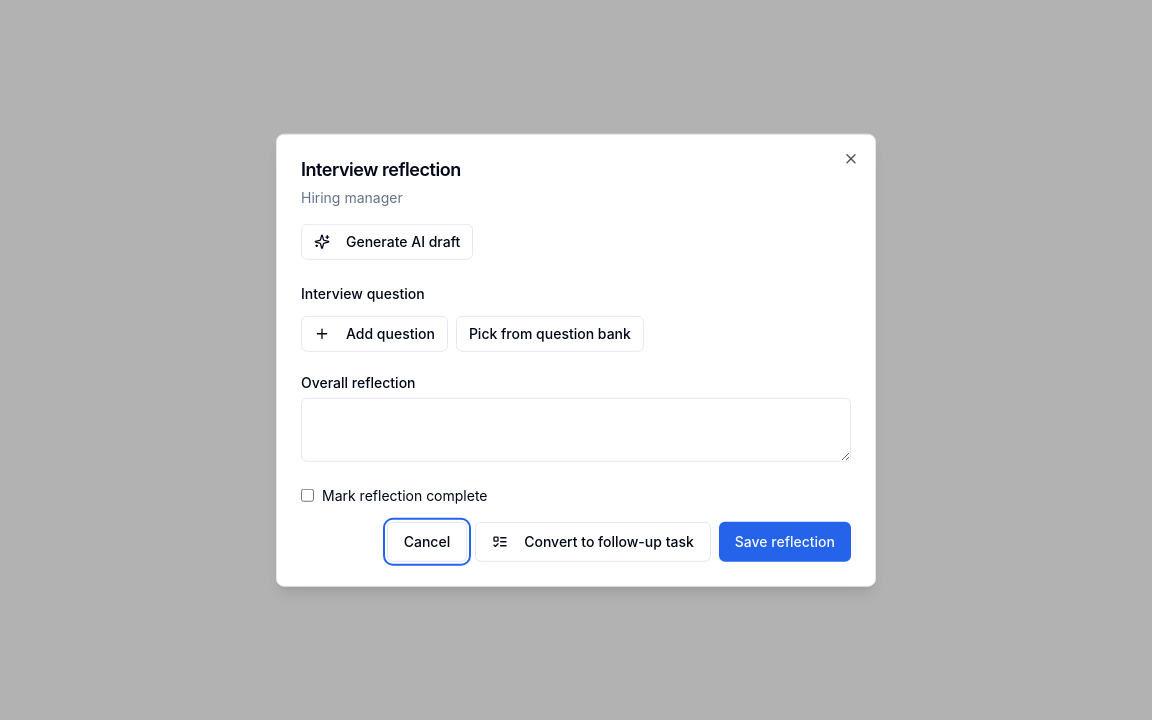
Test: InterviewReflectionDialog › adds a question row locally without saving
Click the button with test id "interview-reflection-add-question".
click(374, 333)  # box [301,315,448,351]
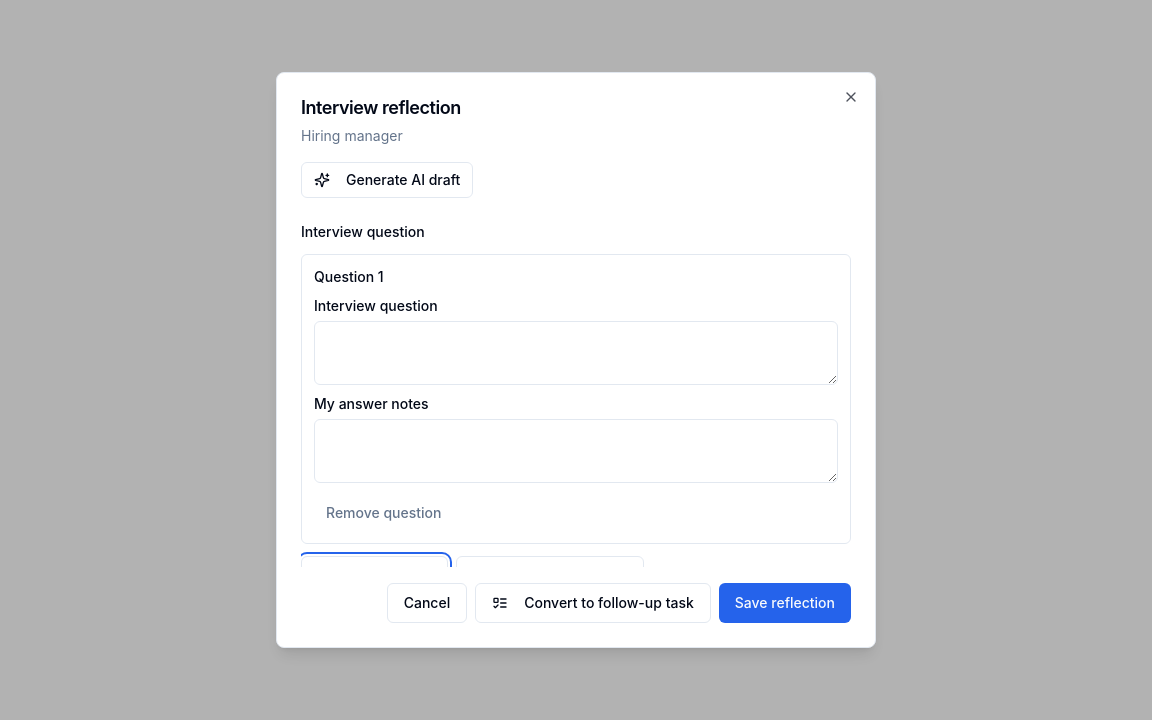
Now the number of elements with test id "interview-reflection-question-row" is 1, box [301,254,851,544]
